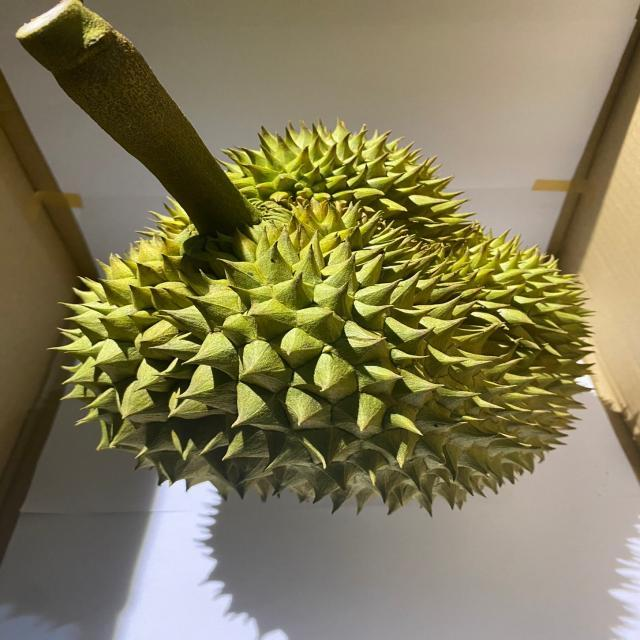immature: (50, 112, 600, 516)
